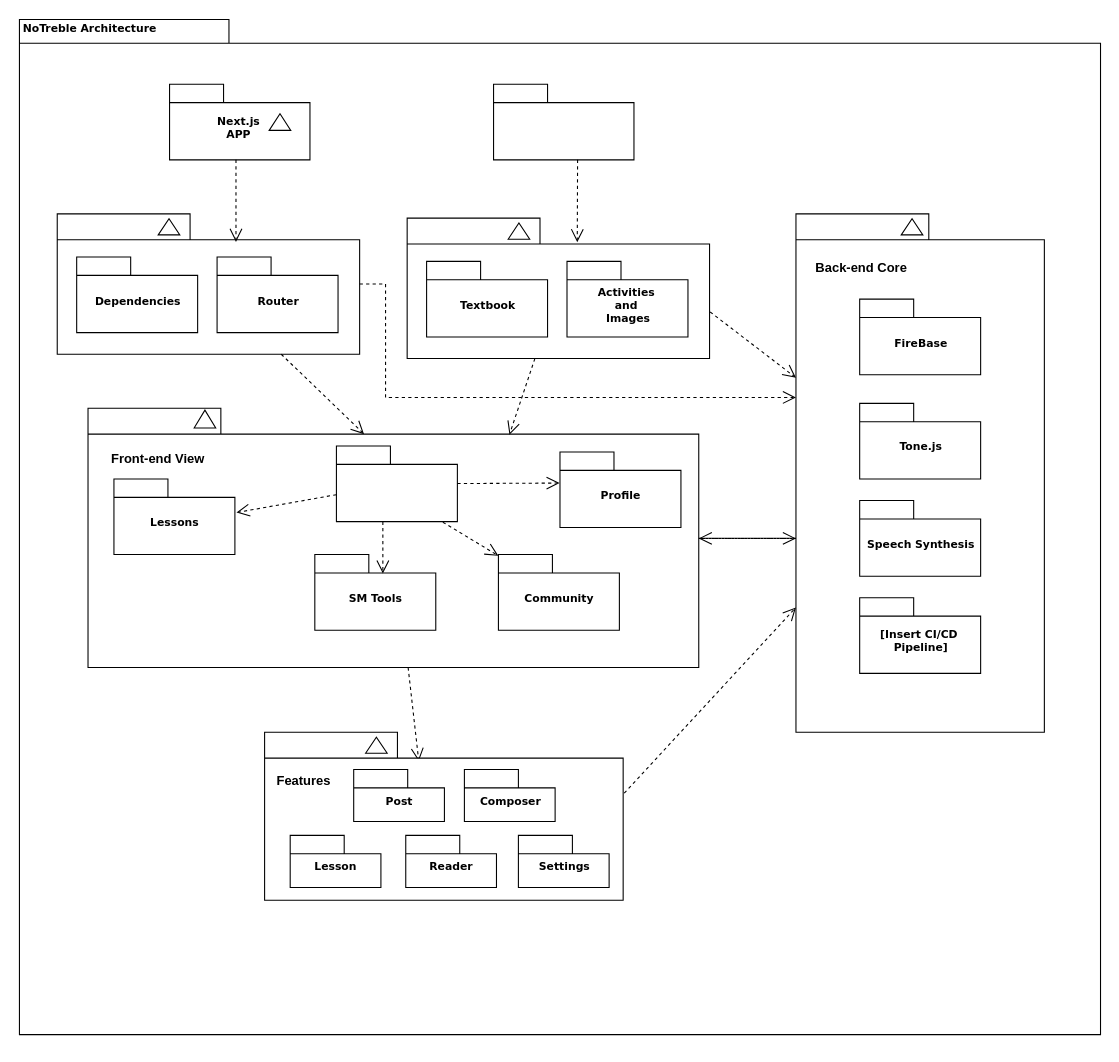
Some shapes in this 1119 by 1062 pixel diagram are drawn without their labels. Here are the shapes that lost their labels. From the top down, the centre of each, then its label:
pixel 563 121: Open Music Theory
pixel 396 483: Landing
